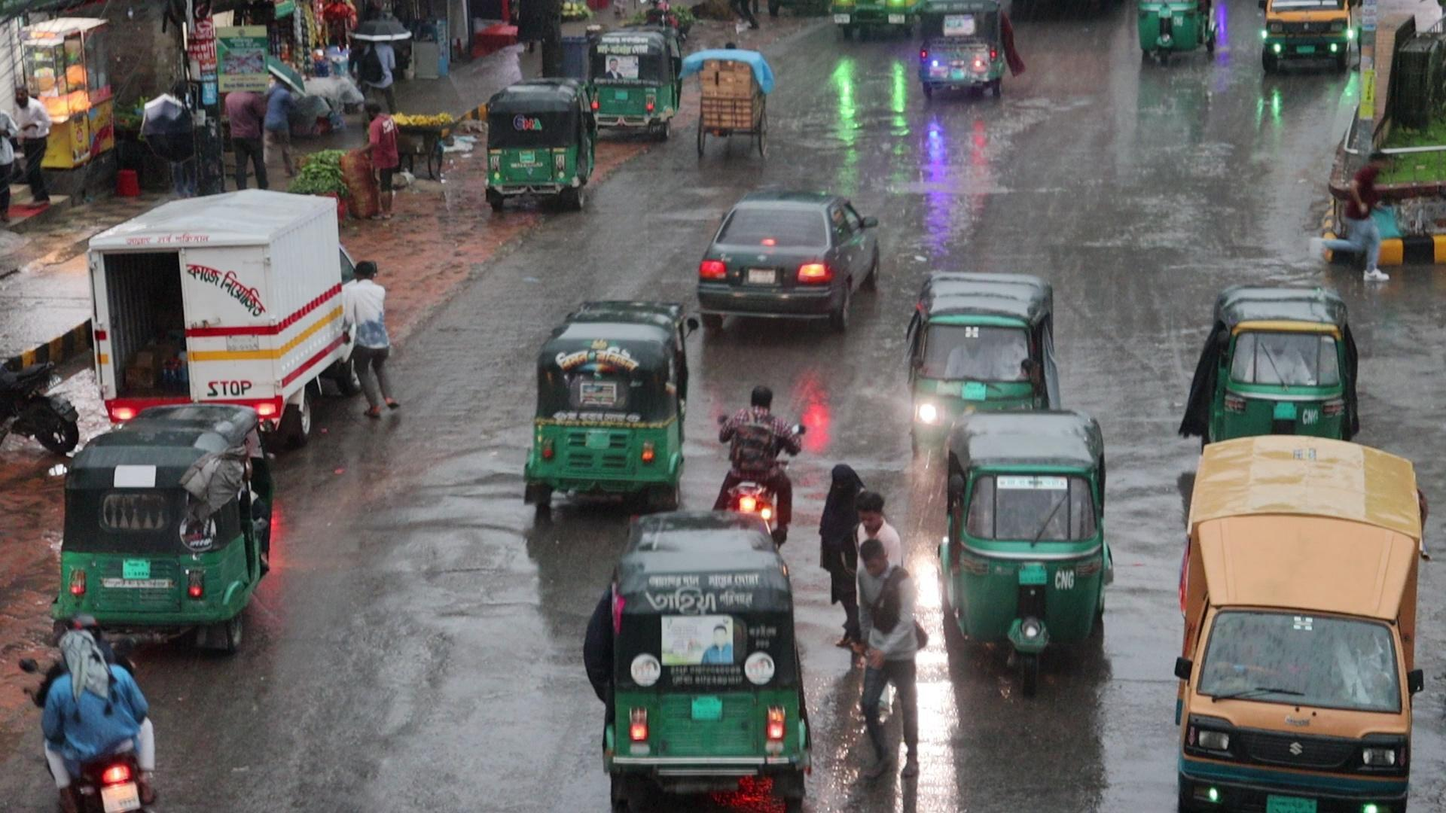Bike: (15, 611, 172, 813), (714, 382, 801, 522)
Car: (691, 190, 882, 329)
Truck: (1172, 434, 1424, 811)
